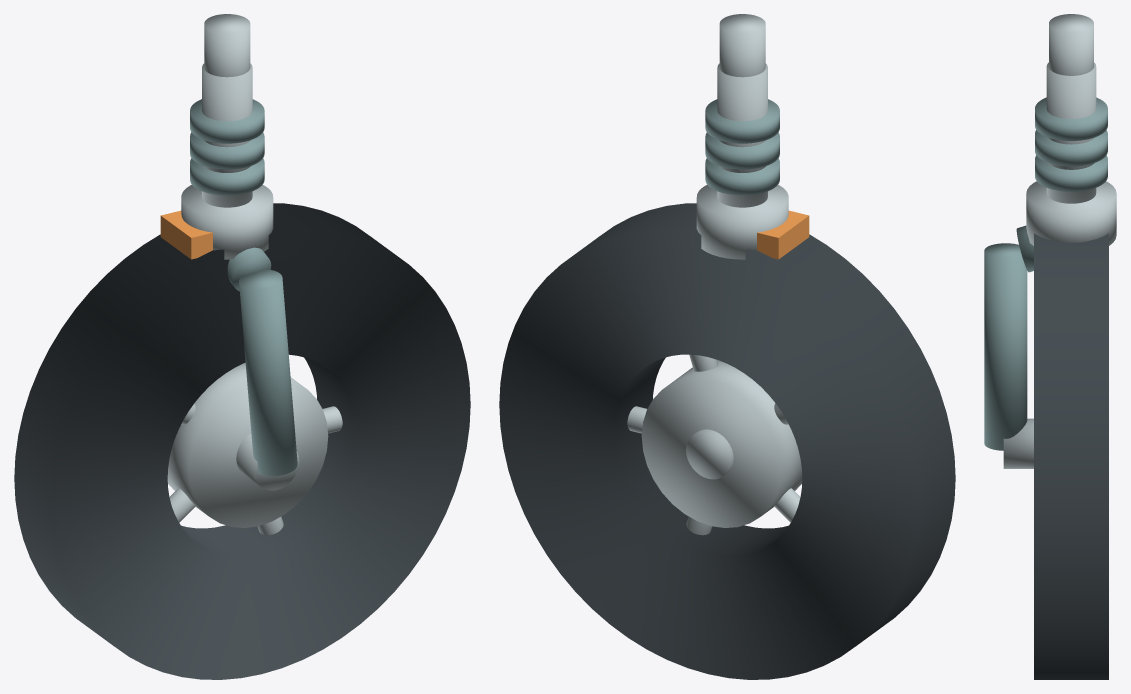
Rendered from wheel-front-right-m.glb.
The picture shows the model from 3 angles, left to right: view 1: azimuth 30°, elevation 25°; view 2: azimuth 150°, elevation 25°; view 3: azimuth 270°, elevation 25°; orthographic projection. The views are drawn at different scales.
Parts seen in each view (by area): view 1: FR_tire.002, FR_sealed_hub.002, FR_fork.002, FR_steering_bearing.002, vertical_front_guide_1.002, vertical_front_spigot_1.002, front_light_elastomer_1_2.002, front_light_elastomer_1_0.002, front_light_elastomer_1_1.002, FR_straight_lock.002, FR_captive_axle.002, FR_fork_bridge.002; view 2: FR_tire.002, FR_sealed_hub.002, FR_steering_bearing.002, vertical_front_guide_1.002, vertical_front_spigot_1.002, front_light_elastomer_1_2.002, FR_captive_axle.002, front_light_elastomer_1_0.002, front_light_elastomer_1_1.002, FR_straight_lock.002; view 3: FR_tire.002, FR_fork.002, FR_steering_bearing.002, vertical_front_guide_1.002, vertical_front_spigot_1.002, front_light_elastomer_1_2.002, front_light_elastomer_1_1.002, front_light_elastomer_1_0.002, FR_captive_axle.002, FR_fork_bridge.002.
Boxes of the visible parts, x1,y1,x2,y2 form: FR_tire.002: (14,203,470,679); FR_sealed_hub.002: (167,362,328,527); FR_fork.002: (239,269,297,476); FR_steering_bearing.002: (181,184,273,259); vertical_front_guide_1.002: (202,63,252,207); vertical_front_spigot_1.002: (204,14,250,77); front_light_elastomer_1_2.002: (190,99,264,143); front_light_elastomer_1_0.002: (190,158,264,195); front_light_elastomer_1_1.002: (190,132,264,169); FR_straight_lock.002: (160,210,212,259); FR_captive_axle.002: (236,433,299,490); FR_fork_bridge.002: (227,247,271,291); FR_tire.002: (499,203,955,679); FR_sealed_hub.002: (641,360,802,527); FR_steering_bearing.002: (696,184,788,259); vertical_front_guide_1.002: (717,63,767,207); vertical_front_spigot_1.002: (719,14,765,77); front_light_elastomer_1_2.002: (705,99,779,143); FR_captive_axle.002: (686,429,733,479); front_light_elastomer_1_0.002: (705,158,779,195); front_light_elastomer_1_1.002: (705,132,779,169); FR_straight_lock.002: (757,210,809,259); FR_tire.002: (1034,233,1108,679); FR_fork.002: (984,243,1027,450); FR_steering_bearing.002: (1026,181,1116,245); vertical_front_guide_1.002: (1046,62,1096,203); vertical_front_spigot_1.002: (1049,14,1093,75); front_light_elastomer_1_2.002: (1035,97,1107,140); front_light_elastomer_1_1.002: (1035,130,1107,166); front_light_elastomer_1_0.002: (1035,155,1107,191); FR_captive_axle.002: (1003,418,1033,468); FR_fork_bridge.002: (1016,225,1033,272).
Bounding box in the file's own units: 0.22 × 0.322 × 0.0615.
